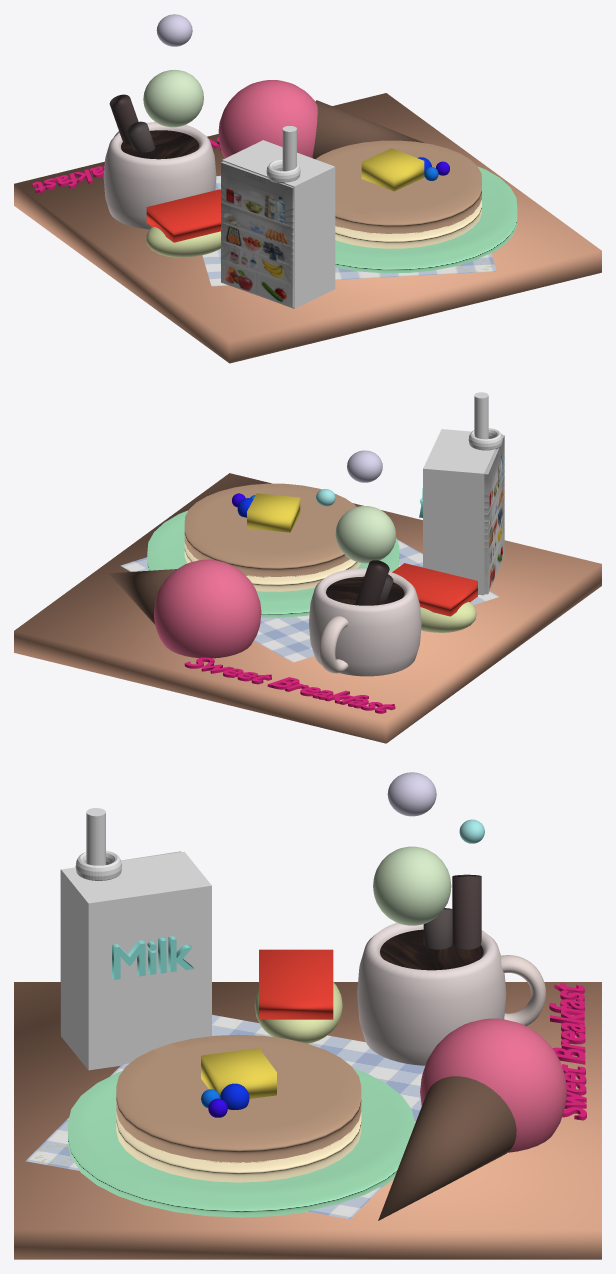
File: breakfast.glb
The picture shows the model from 3 angles, top to bottom: view 1: azimuth 30°, elevation 25°; view 2: azimuth 150°, elevation 25°; view 3: azimuth 270°, elevation 25°; orthographic projection. The views are drawn at different scales.
Visible parts, largest first — view 1: Plane, Cylinder.004, Plane.002, Cube, Torus, Cylinder, Sphere.003, Cube.002, Sphere, Cone, Cylinder.003, Cube.001 (+9 smaller); view 2: Plane, Cylinder.004, Sphere.003, Cube, Torus, Cylinder, Plane.001, Sphere, Plane.002, Cube.002, Text.002, Cube.001 (+9 smaller); view 3: Plane, Cube, Cylinder.004, Cylinder, Torus, Sphere.003, Cone, Plane.001, Cube.002, Cylinder.003, Sphere, Text.002 (+10 smaller).
Part boxes in pixels (box(x1,y1,x2,y2)): Plane: box(14, 93, 601, 363); Cylinder.004: box(316, 140, 481, 233); Plane.002: box(221, 161, 293, 307); Cube: box(222, 140, 335, 308); Torus: box(103, 122, 216, 229); Cylinder: box(335, 166, 517, 273); Sphere.003: box(218, 80, 317, 158); Cube.002: box(146, 189, 220, 242); Sphere: box(143, 69, 203, 127); Cone: box(312, 100, 423, 159); Cylinder.003: box(335, 200, 481, 248); Cube.001: box(361, 148, 424, 191); Plane: box(14, 473, 601, 743); Cylinder.004: box(184, 483, 356, 577); Sphere.003: box(154, 559, 261, 658); Cube: box(423, 429, 502, 595); Torus: box(308, 568, 421, 676); Cylinder: box(147, 510, 399, 617); Plane.001: box(120, 539, 499, 662); Sphere: box(335, 506, 395, 563); Plane.002: box(484, 435, 504, 594); Cube.002: box(392, 563, 477, 616); Text.002: box(184, 657, 395, 713); Cube.001: box(247, 493, 300, 532); Plane: box(14, 982, 601, 1259); Cube: box(61, 851, 211, 1070); Cylinder.004: box(116, 1034, 361, 1163); Cylinder: box(68, 1068, 414, 1217); Torus: box(357, 923, 506, 1065); Sphere.003: box(420, 1018, 566, 1152); Cone: box(378, 1076, 516, 1220); Plane.001: box(25, 1014, 424, 1219); Cube.002: box(259, 949, 333, 1019); Cylinder.003: box(116, 1111, 361, 1182); Sphere: box(373, 846, 451, 925); Text.002: box(549, 982, 586, 1120).
Size of the model in its own units: 11.97 by 6.73 by 12.
Materials: 24 (3 with a texture image).
